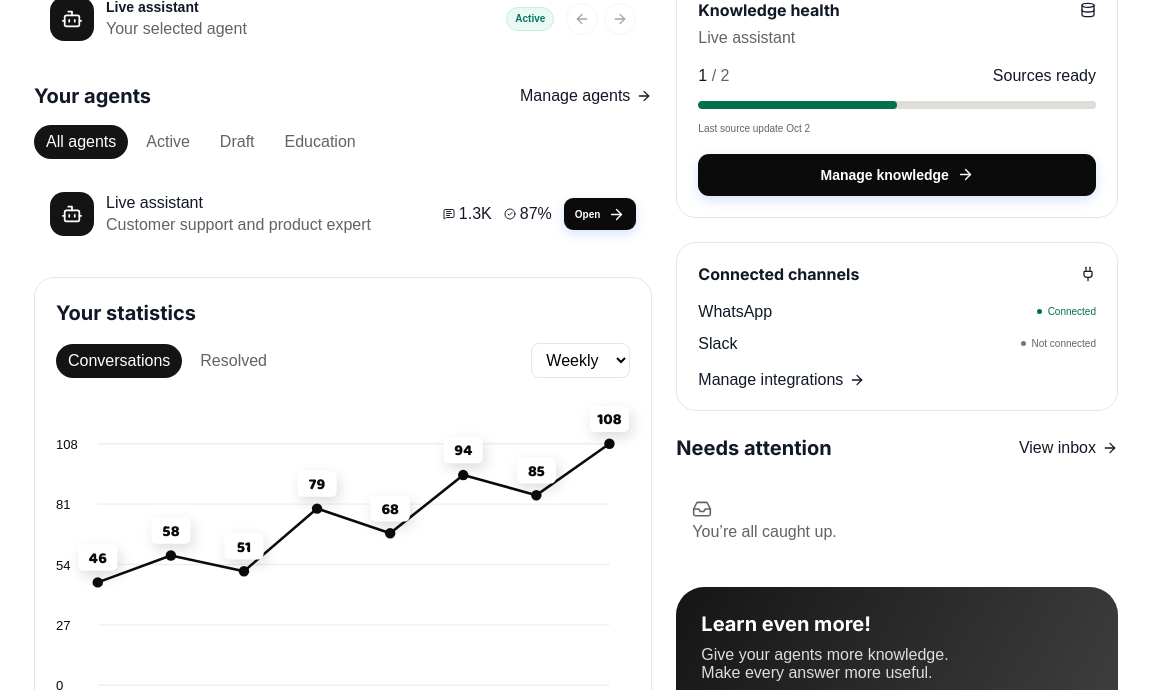
it: SaaS Bot overview API fidelity › does not present a previous period as fresh data after a failed range change
(page scrolled)
Select "Monthly" in the dropdown named "Chart period" at (581, 360), box top-left (531, 343), bottom-right (630, 378)
(page scrolled)
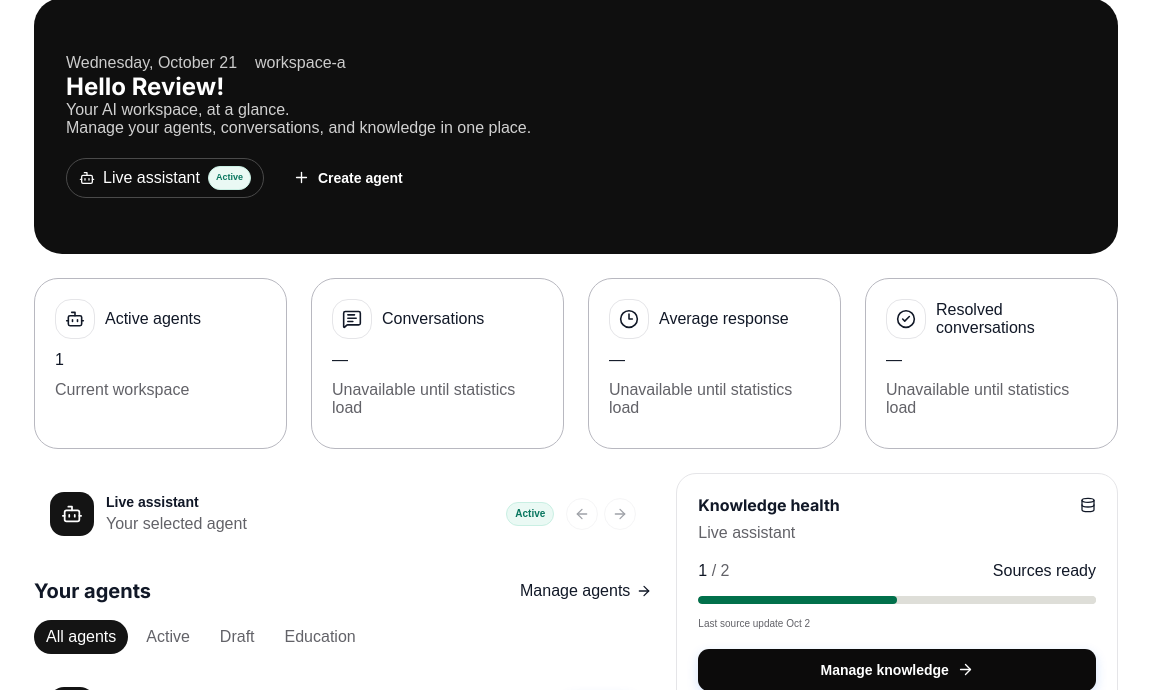
Result: the 1st text "—" is shown at top-left (332, 351), bottom-right (347, 368)
